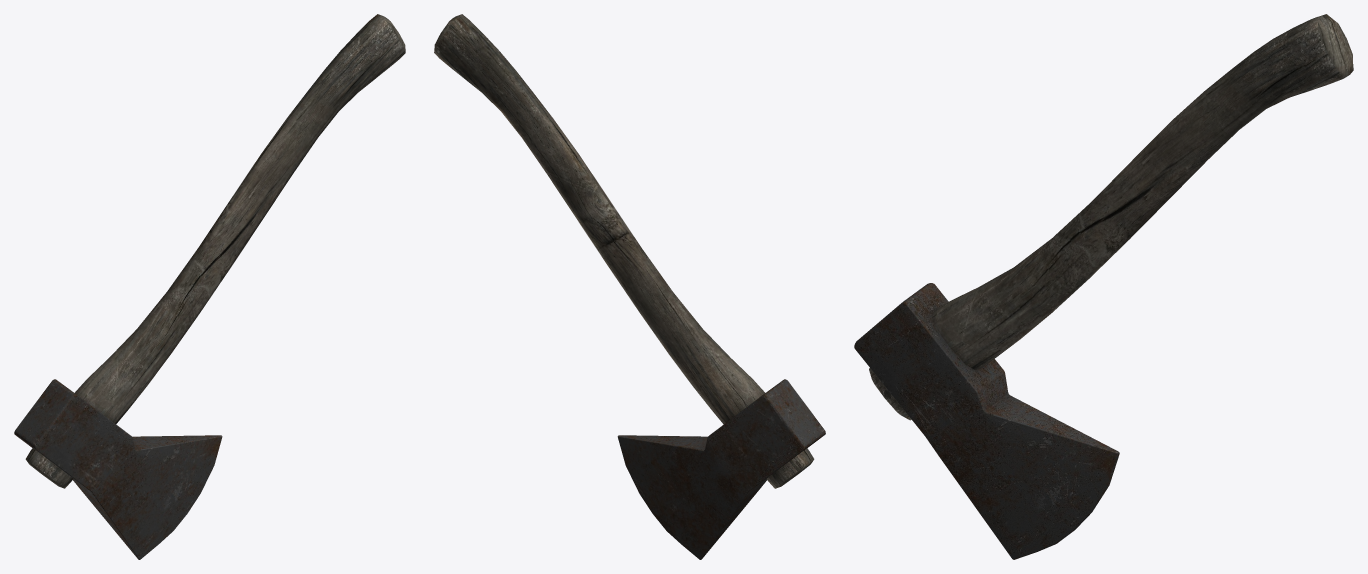
Rendered from axe.glb.
The picture shows the model from 3 angles, left to right: view 1: azimuth 30°, elevation 25°; view 2: azimuth 150°, elevation 25°; view 3: azimuth 330°, elevation 25°; orthographic projection. The views are drawn at different scales.
Visible parts, largest first — view 1: axe; view 2: axe; view 3: axe.
Boxes of the visible parts, x1,y1,x2,y2 form: axe: (14,14,405,559); axe: (434,14,825,559); axe: (854,14,1353,559).
Bounding box in the file's own units: 0.4937 × 0.6051 × 0.0507.
Materials: 1 (1 with a texture image).
